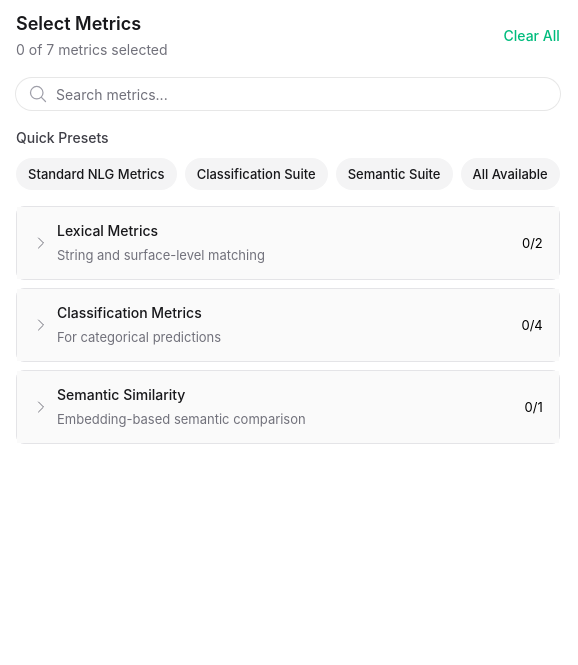
Test: MetricSelector › Grouped categories › expands category on click to show individual metrics
Click the heading "Classification Metrics" at (139, 313), box [57,301,221,325]
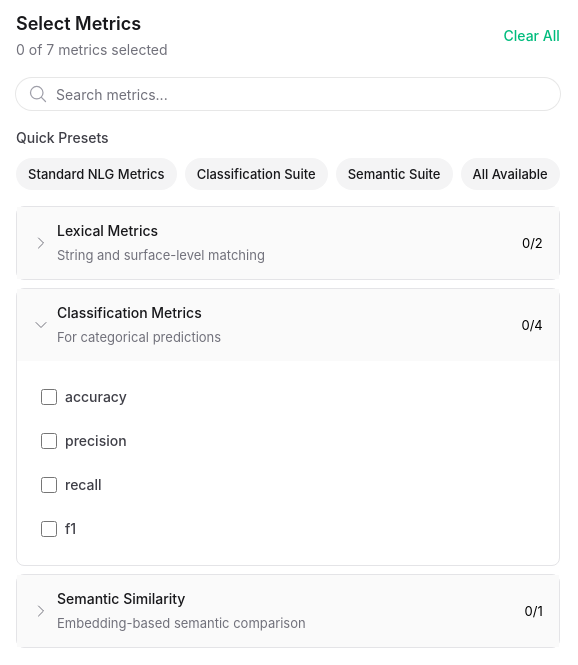
expect the text "accuracy" is shown: met, box [65,388,127,405]
expect the text "precision" is shown: met, box [65,432,127,449]
expect the text "recall" is shown: met, box [65,476,102,493]
